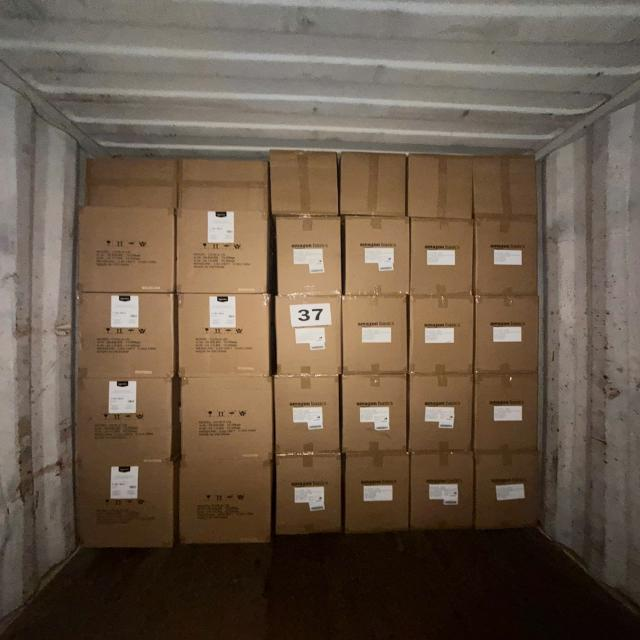Carton: (76, 205, 175, 294), (77, 292, 175, 378), (73, 462, 173, 546), (174, 207, 270, 294), (73, 378, 172, 462), (178, 375, 277, 458), (176, 293, 272, 378), (178, 456, 273, 541), (342, 213, 411, 296), (472, 452, 544, 530), (275, 213, 343, 295), (274, 295, 342, 377), (473, 214, 539, 298), (273, 372, 340, 454), (407, 295, 475, 374), (339, 374, 407, 453), (276, 454, 342, 534), (410, 217, 476, 296), (342, 296, 408, 375), (344, 454, 409, 534), (474, 297, 539, 376), (408, 374, 473, 452), (411, 452, 472, 534), (475, 372, 536, 452), (270, 148, 339, 214), (340, 152, 406, 218), (470, 154, 537, 218), (406, 151, 469, 219)
